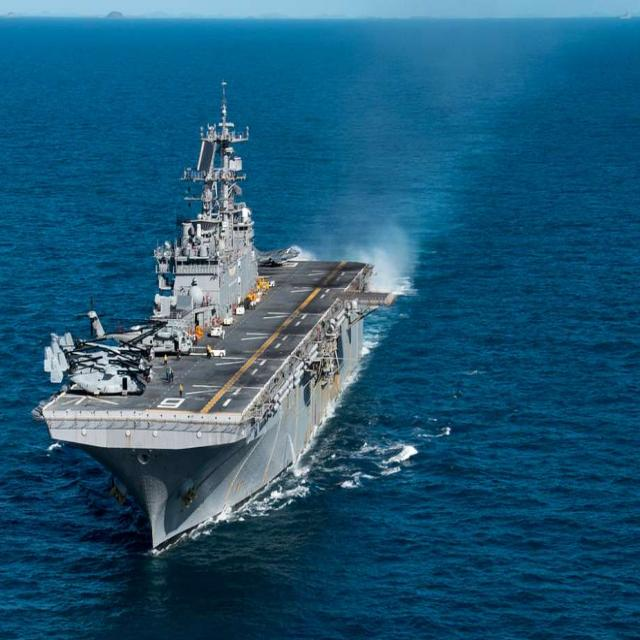navalvessels: (21, 88, 394, 553)
